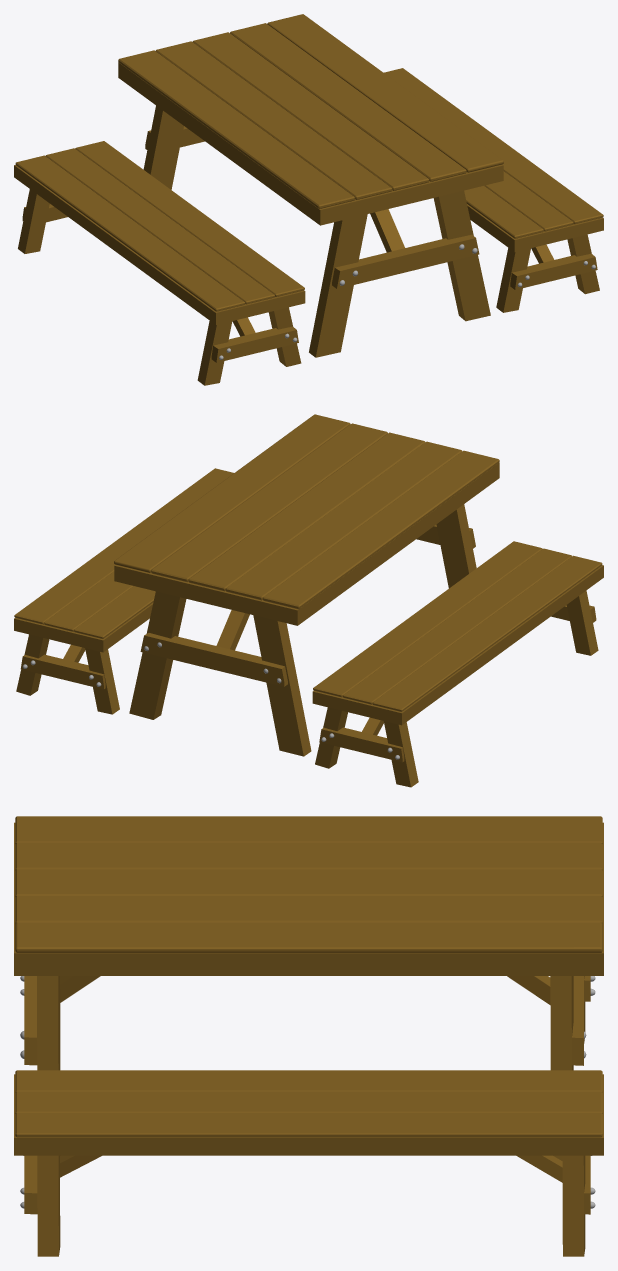
File: benc.fbx
The picture shows the model from 3 angles, top to bottom: view 1: azimuth 30°, elevation 25°; view 2: azimuth 150°, elevation 25°; view 3: azimuth 270°, elevation 25°; orthographic projection. The views are drawn at different scales.
Parts seen in each view (by area): view 1: screw26, screw25, plank4, plank2, plank1, plank3, plank, top1, leg, leg2, leg1, leg3 (+1 smaller); view 2: screw26, screw25, plank4, plank1, plank2, plank3, plank, top1, leg3, leg5, leg4, leg (+1 smaller); view 3: screw25, plank2, plank3, plank, plank1, plank4, top1, leg2, leg5, leg1, leg4, innerLeg.
Boxes of the visible parts, x1,y1,x2,y2 form: screw26: (14, 141, 305, 385); screw25: (384, 68, 603, 312); plank4: (118, 50, 354, 208); plank2: (267, 14, 503, 172); plank1: (230, 23, 466, 181); plank3: (155, 41, 392, 199); plank: (192, 32, 429, 190); top1: (118, 62, 503, 225); leg: (309, 214, 367, 357); leg2: (433, 190, 490, 321); leg1: (332, 234, 479, 288); leg3: (143, 105, 183, 189); screw26: (312, 541, 603, 787); screw25: (14, 468, 233, 714); plank4: (263, 450, 499, 609); plank1: (151, 423, 387, 581); plank2: (114, 414, 350, 572); plank3: (225, 441, 462, 600); plank: (188, 432, 425, 591); top1: (114, 462, 499, 625); leg3: (253, 615, 311, 756); leg5: (129, 591, 186, 719); leg4: (140, 633, 287, 686); leg: (436, 504, 476, 588); screw25: (14, 1070, 603, 1256); plank2: (15, 922, 602, 952); plank3: (15, 842, 602, 870); plank: (15, 869, 602, 896); plank1: (15, 896, 602, 924); plank4: (15, 816, 602, 843); top1: (14, 822, 603, 975); leg2: (37, 976, 60, 1155); leg5: (550, 976, 573, 1160); leg1: (24, 976, 37, 1065); leg4: (572, 976, 583, 1065); innerLeg: (507, 976, 550, 1004).
Size of the model in its own units: 5.66 by 2.21 by 5.
